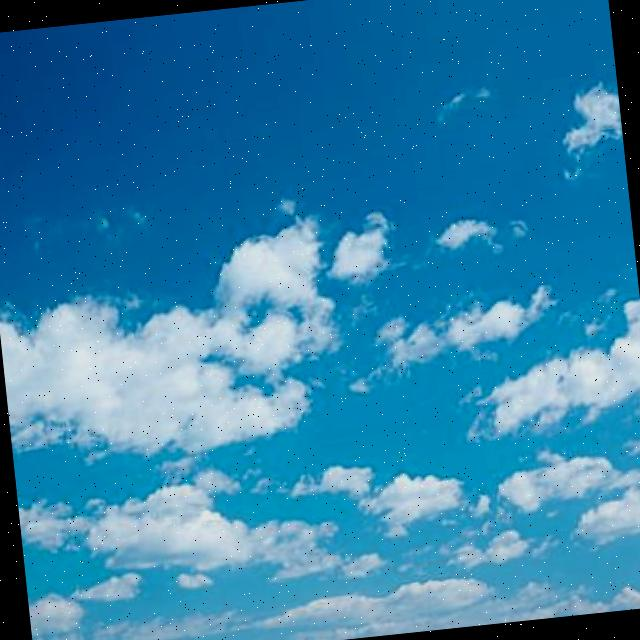Cu: (1, 89, 640, 640)
